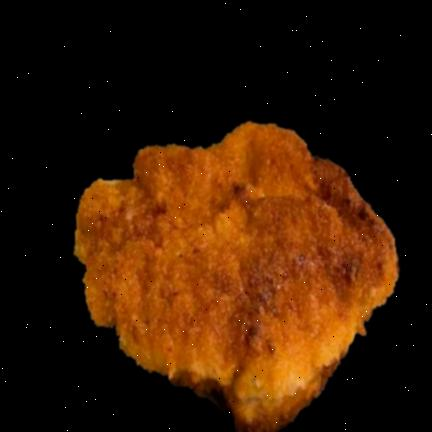chicken: (76, 123, 399, 432)
